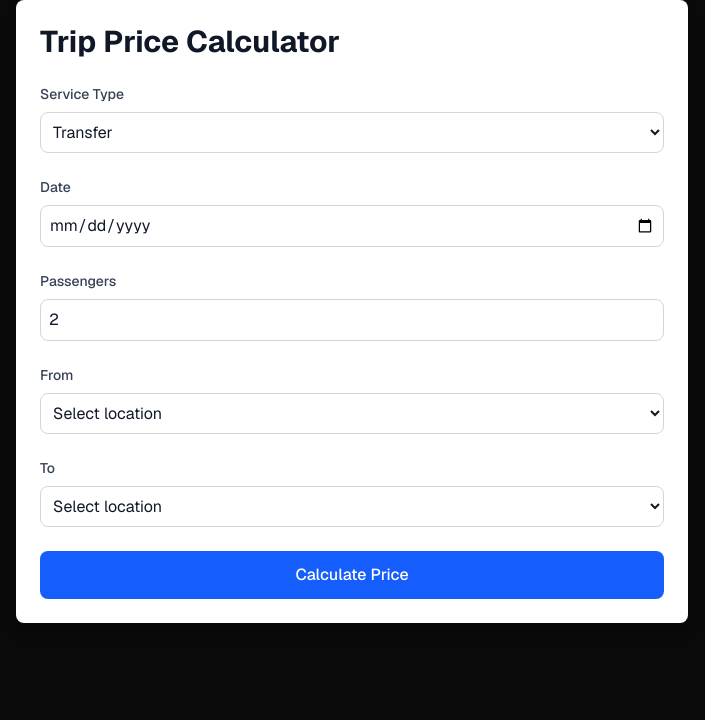
Test: Calculator Component › API Error Handling › should display generic error when API fails
Select "Transfer" in the dropdown labelled "Service Type" at (352, 132), box [40,112,664,153]
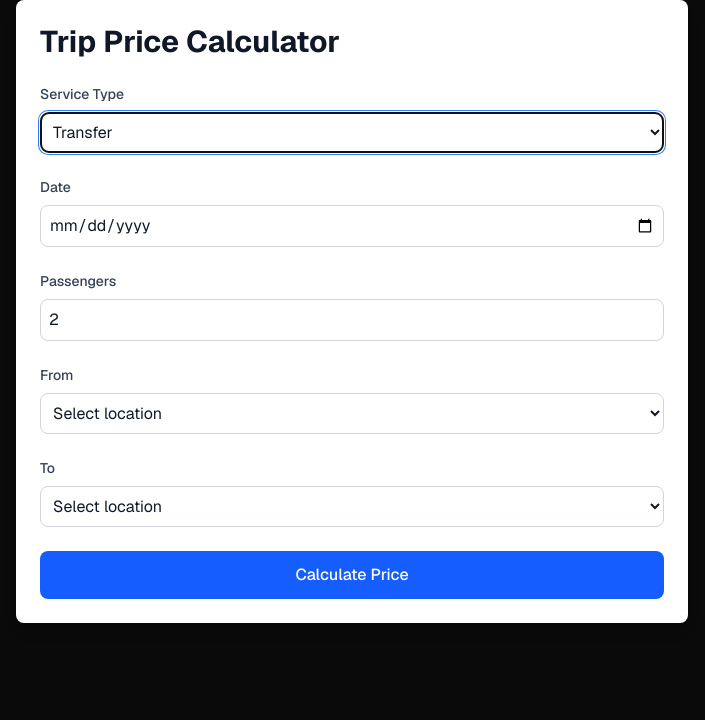
Type "2024-07-15" into the date field labelled "Date" at (352, 226), box [40,205,664,247]
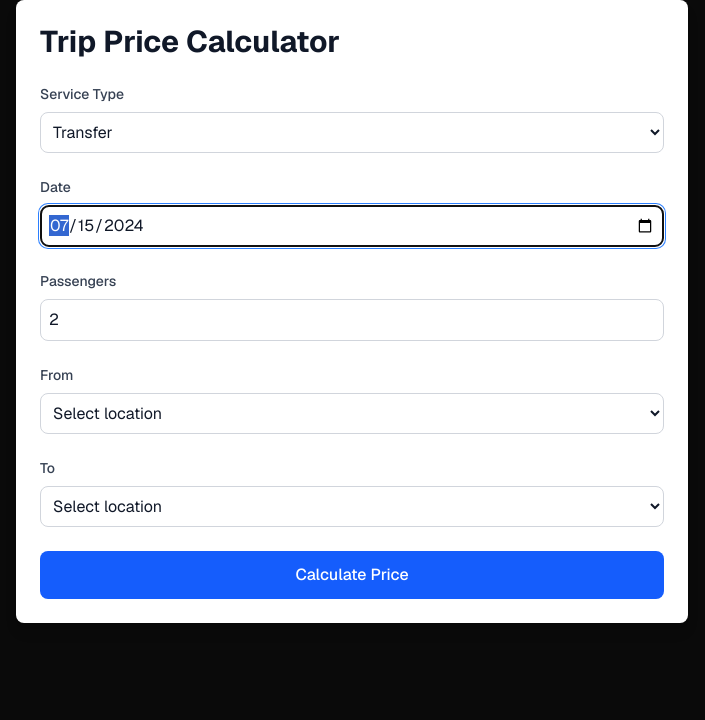
Replace the text in the number field labelled "Passengers" with "4" at (352, 320), box [40,299,664,341]
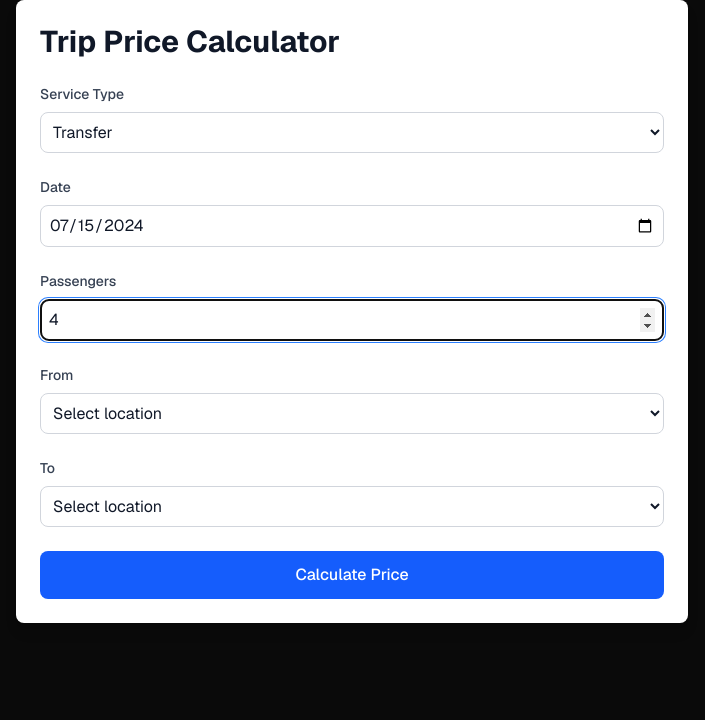
Select "Dubrovnik" in the dropdown labelled "From" at (352, 414), box [40,393,664,434]
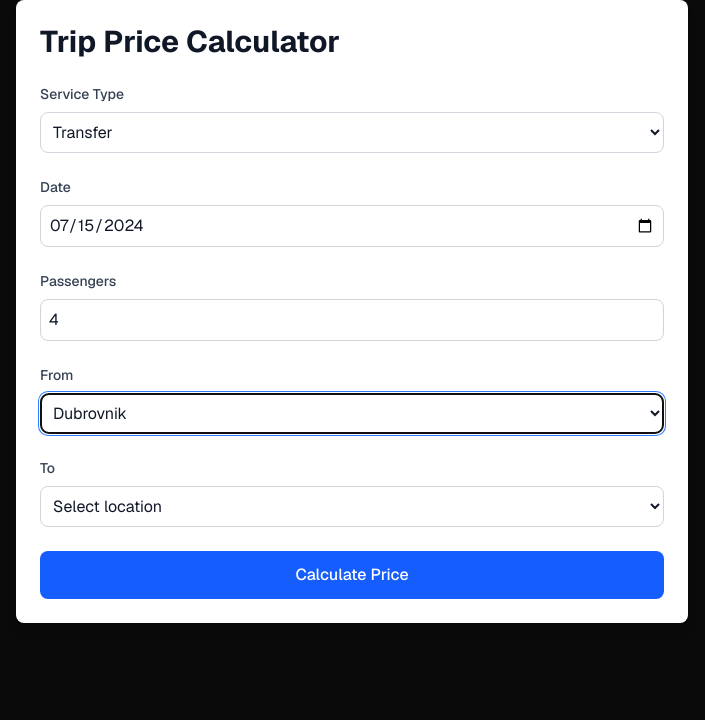
Select "Cavtat" in the dropdown labelled "To" at (352, 506), box [40,486,664,527]
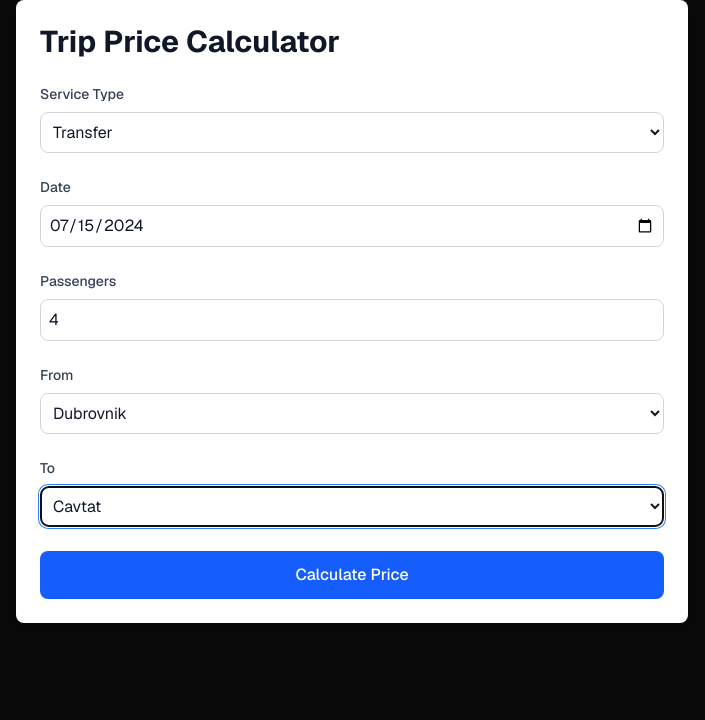
Click the button "Calculate Price" at (352, 575), box [40,551,664,599]
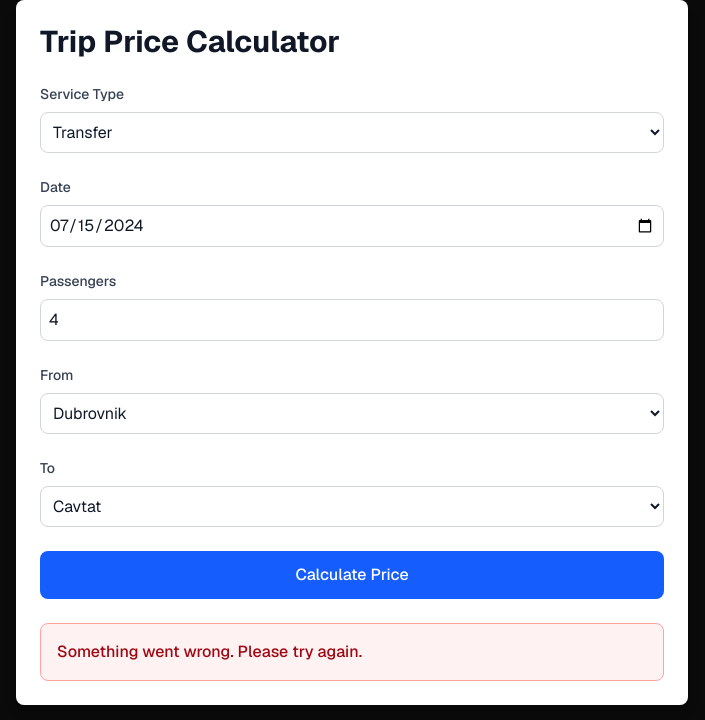
Now the text "Something went wrong. Please try again." is shown, box [57,641,362,662]
